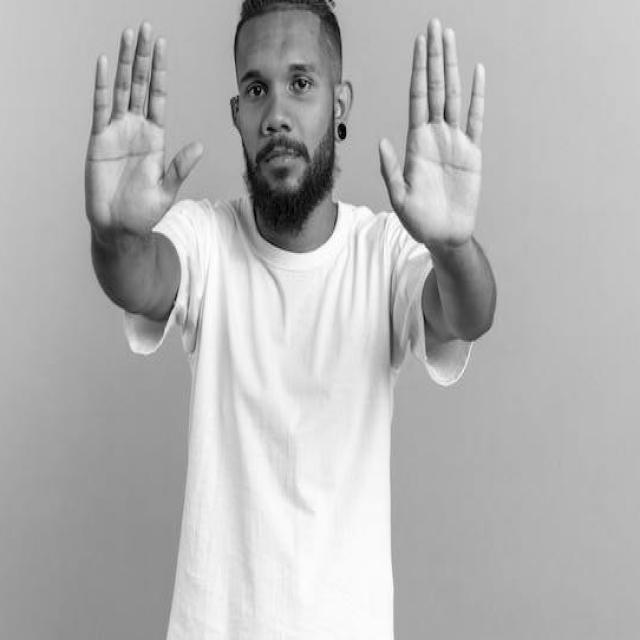stop: (80, 11, 210, 247), (374, 9, 495, 255)
